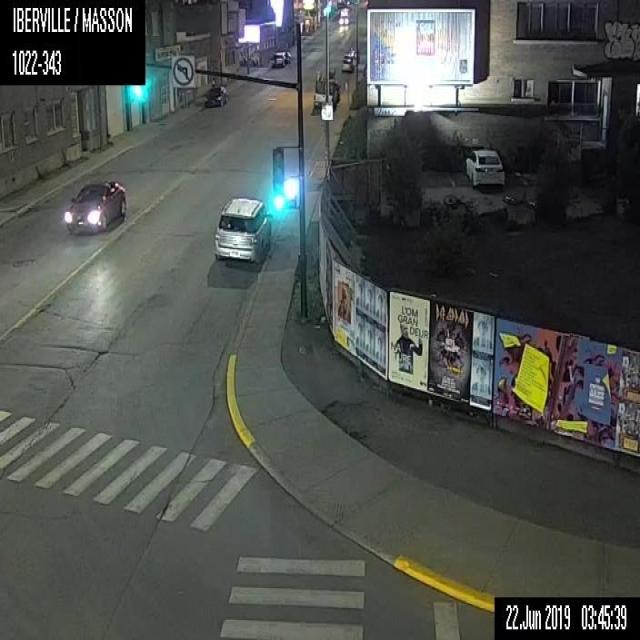vehicle: (214, 196, 272, 267), (63, 178, 125, 238), (465, 148, 504, 192), (311, 68, 339, 108), (203, 83, 227, 107), (270, 47, 291, 67), (343, 44, 358, 66), (337, 6, 349, 26), (340, 57, 352, 72)
